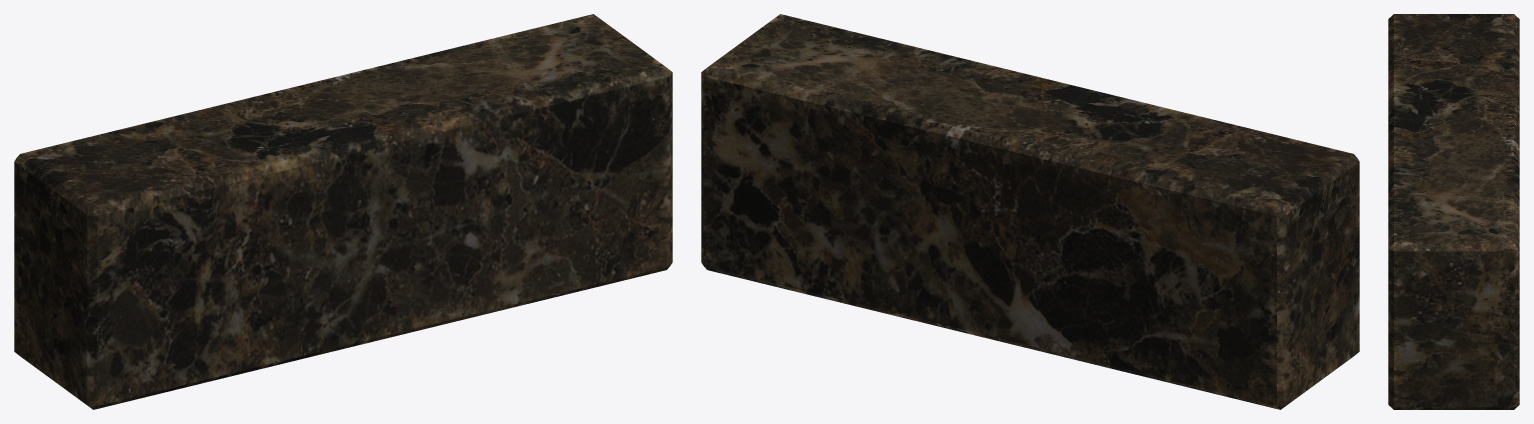
Rendered from SM_Granite_Fencing_block_1.FBX.
3 renders of one model, left to right at view 1: azimuth 30°, elevation 25°; view 2: azimuth 150°, elevation 25°; view 3: azimuth 270°, elevation 25°, orthographic. The views are drawn at different scales.
Parts seen in each view (by area): view 1: Granite_Fencing_block_1; view 2: Granite_Fencing_block_1; view 3: Granite_Fencing_block_1.
Boxes of the visible parts, x1=… form: Granite_Fencing_block_1: x1=14, y1=14, x2=672, y2=409; Granite_Fencing_block_1: x1=701, y1=14, x2=1359, y2=409; Granite_Fencing_block_1: x1=1388, y1=14, x2=1519, y2=409.
Size of the model in its own units: 1464 by 347 by 484.
